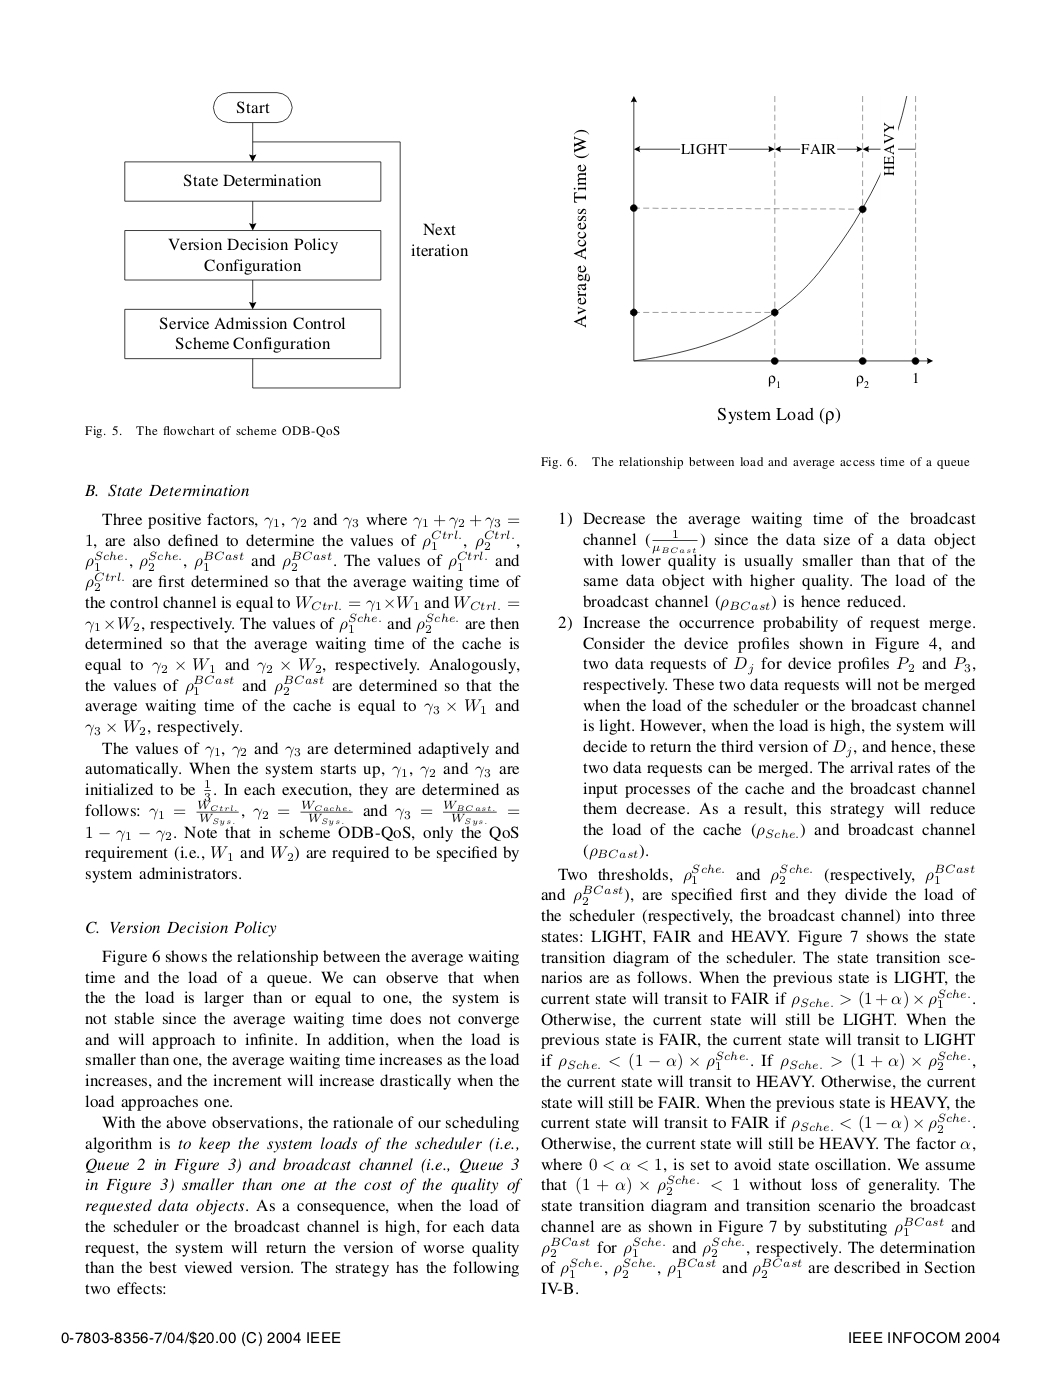figure: (573, 96, 932, 387), (124, 91, 468, 389)
formula: (541, 1051, 975, 1070)
